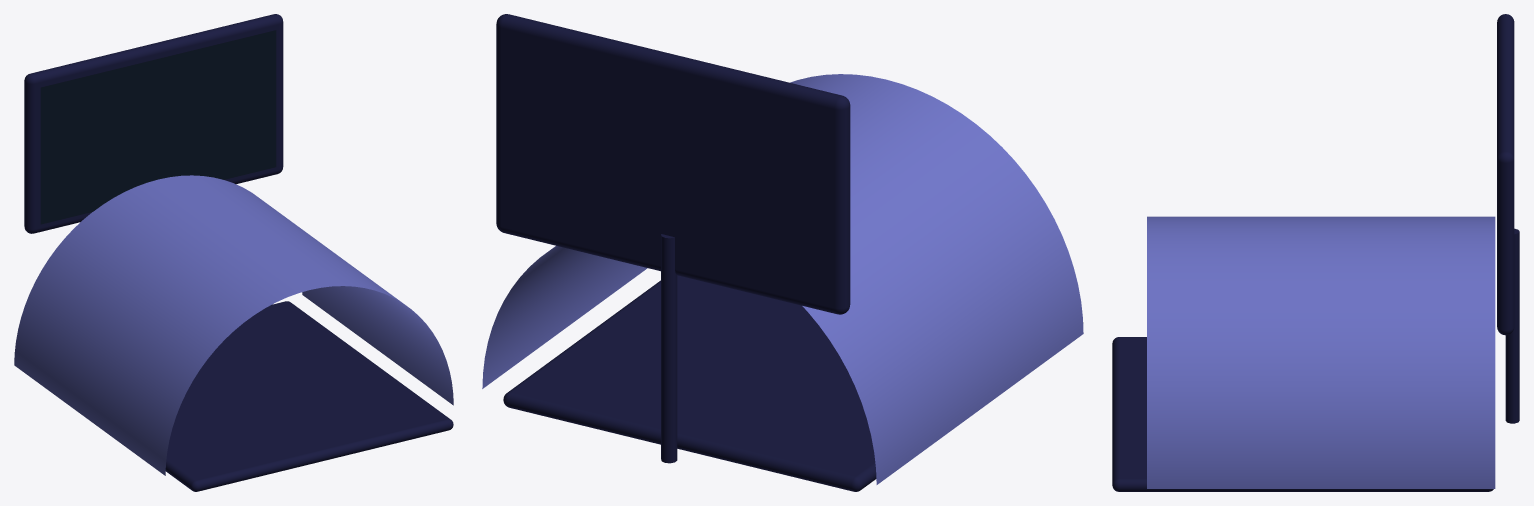
File: mowerDock.glb
The picture shows the model from 3 angles, left to right: view 1: azimuth 30°, elevation 25°; view 2: azimuth 150°, elevation 25°; view 3: azimuth 270°, elevation 25°; orthographic projection. The views are drawn at different scales.
Visible parts, largest first — view 1: hood, plates, pad, plateFrame; view 2: plateFrame, hood, pad, mowerDock; view 3: hood, pad, plateFrame, mowerDock.
Boxes of the visible parts, x1=… form: hood: x1=14, y1=175, x2=453, y2=475; plates: x1=40, y1=30, x2=276, y2=224; pad: x1=165, y1=301, x2=453, y2=491; plateFrame: x1=24, y1=14, x2=283, y2=233; plateFrame: x1=496, y1=14, x2=850, y2=314; hood: x1=482, y1=74, x2=1083, y2=484; pad: x1=503, y1=275, x2=1083, y2=491; mowerDock: x1=661, y1=234, x2=677, y2=463; hood: x1=1147, y1=216, x2=1495, y2=488; pad: x1=1112, y1=337, x2=1493, y2=491; plateFrame: x1=1497, y1=14, x2=1514, y2=335; mowerDock: x1=1505, y1=228, x2=1519, y2=423.
Bounding box in the file's own units: 1.1 × 1.07 × 1.17.
